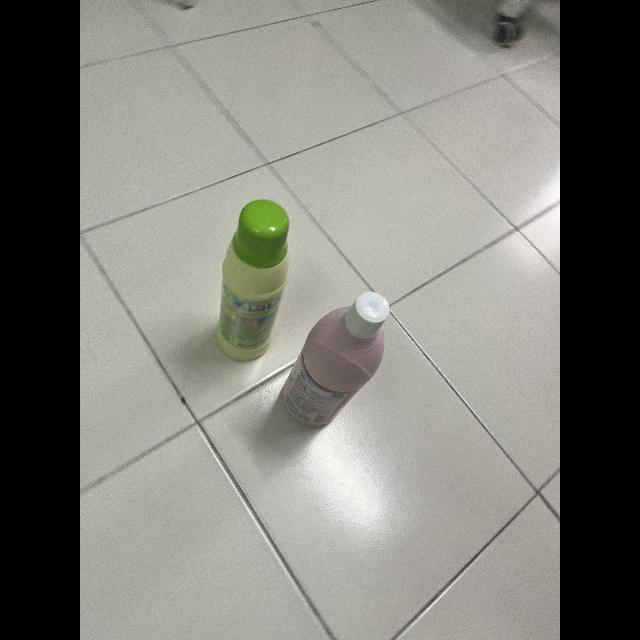chemical_plastic_bottle: (278, 290, 394, 428), (215, 196, 295, 370)
